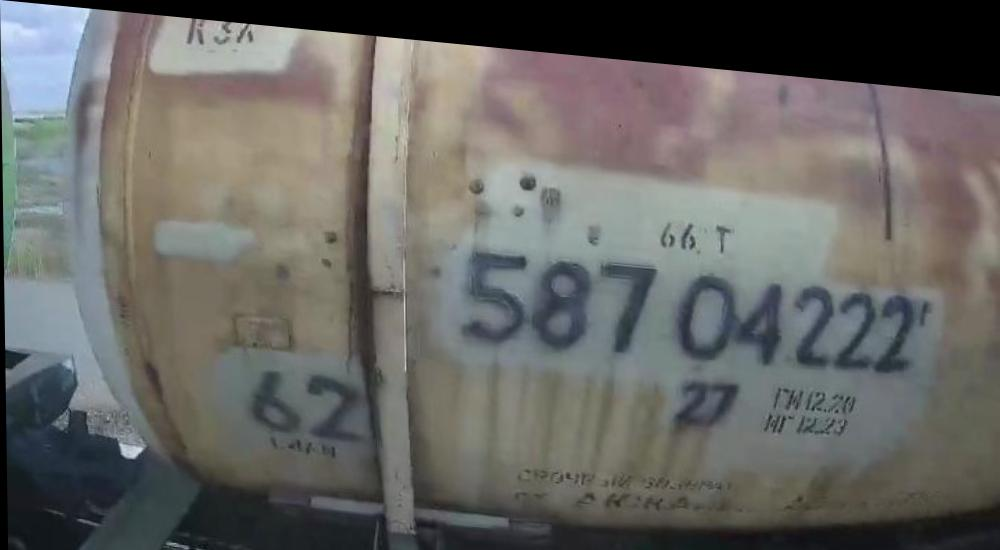Wagon-number: (463, 235, 919, 369)
